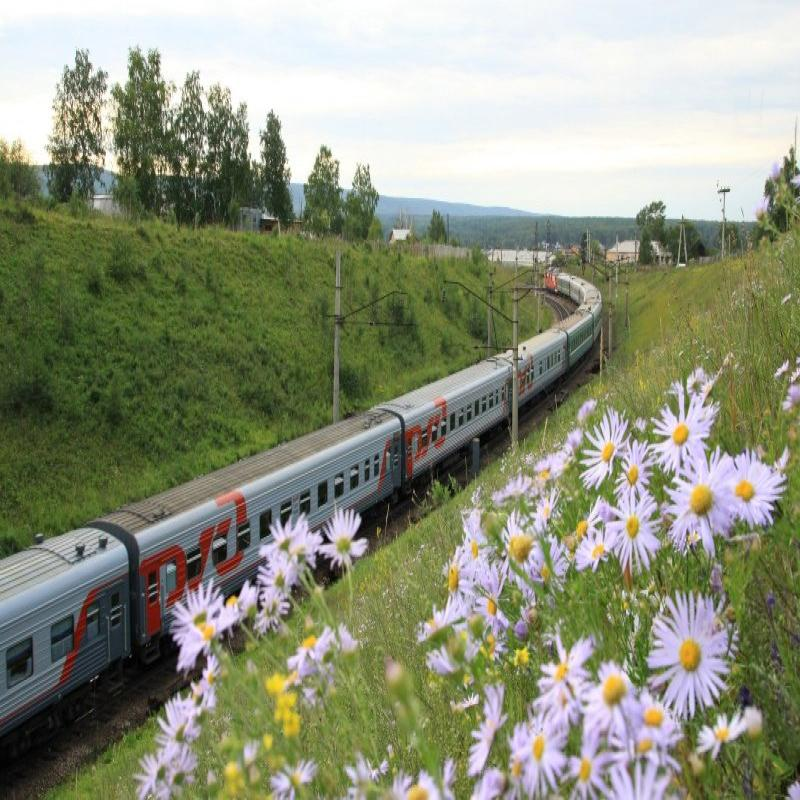train: (9, 518, 163, 720), (342, 406, 454, 488), (449, 354, 518, 447), (522, 323, 583, 395)
